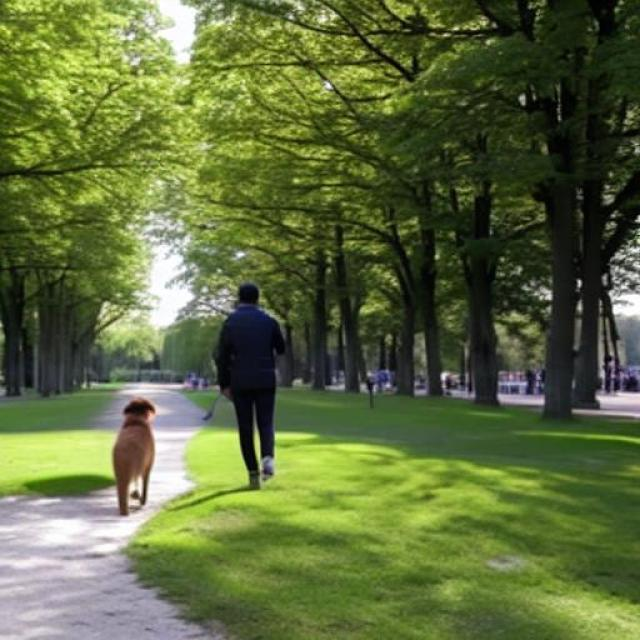Unleashed_Dog: (112, 397, 275, 515)
